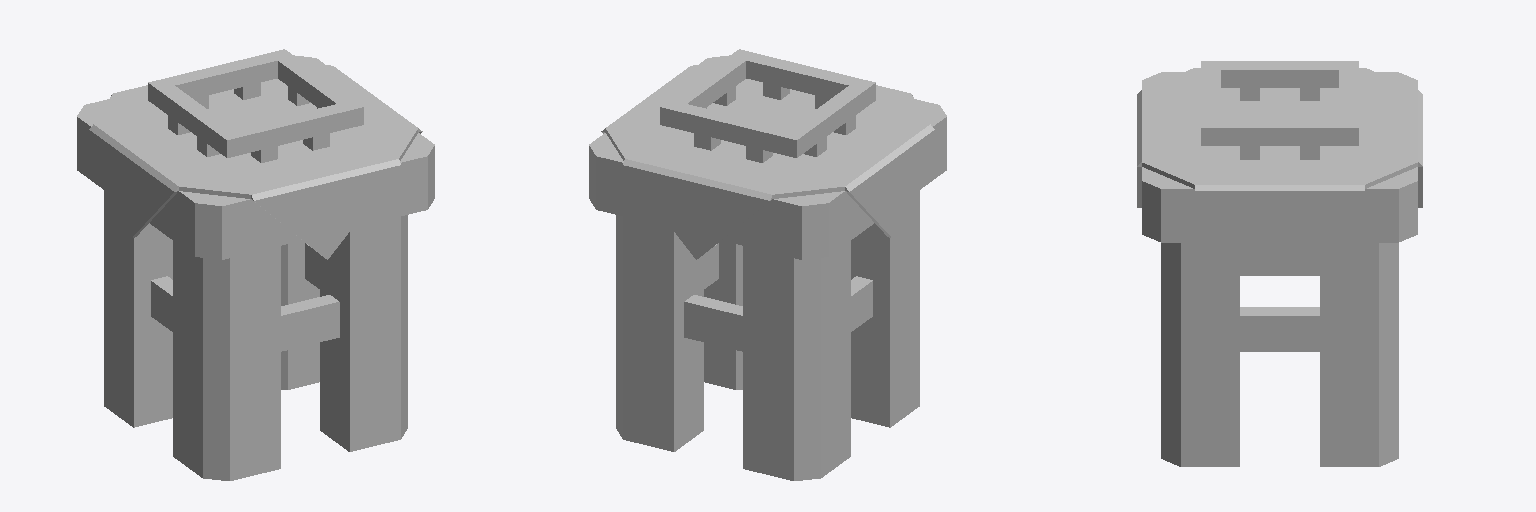
File: occulus_base.obj
The picture shows the model from 3 angles: view 1: azimuth 30°, elevation 25°; view 2: azimuth 150°, elevation 25°; view 3: azimuth 270°, elevation 25°; orthographic projection.
Visible parts, largest first — view 1: TABLE_LEGS_TABLE_LEGS, TABLECLOTH_TABLECLOTH, HOLDER, TABLE_TOP_TABLE_TOP; view 2: TABLE_LEGS_TABLE_LEGS, TABLECLOTH_TABLECLOTH, HOLDER, TABLE_TOP_TABLE_TOP; view 3: TABLE_LEGS_TABLE_LEGS, TABLECLOTH_TABLECLOTH, HOLDER, TABLE_TOP_TABLE_TOP.
Boxes of the visible parts, <box> form: TABLE_LEGS_TABLE_LEGS: <box>104,190,407,480</box>; TABLECLOTH_TABLECLOTH: <box>89,62,422,259</box>; HOLDER: <box>148,49,363,162</box>; TABLE_TOP_TABLE_TOP: <box>77,55,434,259</box>; TABLE_LEGS_TABLE_LEGS: <box>616,190,919,480</box>; TABLECLOTH_TABLECLOTH: <box>601,62,934,259</box>; HOLDER: <box>660,49,875,162</box>; TABLE_TOP_TABLE_TOP: <box>589,55,946,259</box>; TABLE_LEGS_TABLE_LEGS: <box>1161,243,1398,466</box>; TABLECLOTH_TABLECLOTH: <box>1137,68,1422,267</box>; HOLDER: <box>1201,61,1358,159</box>; TABLE_TOP_TABLE_TOP: <box>1142,72,1417,242</box>.
Size of the model in its own units: 0.9062 by 1.12 by 0.9062.